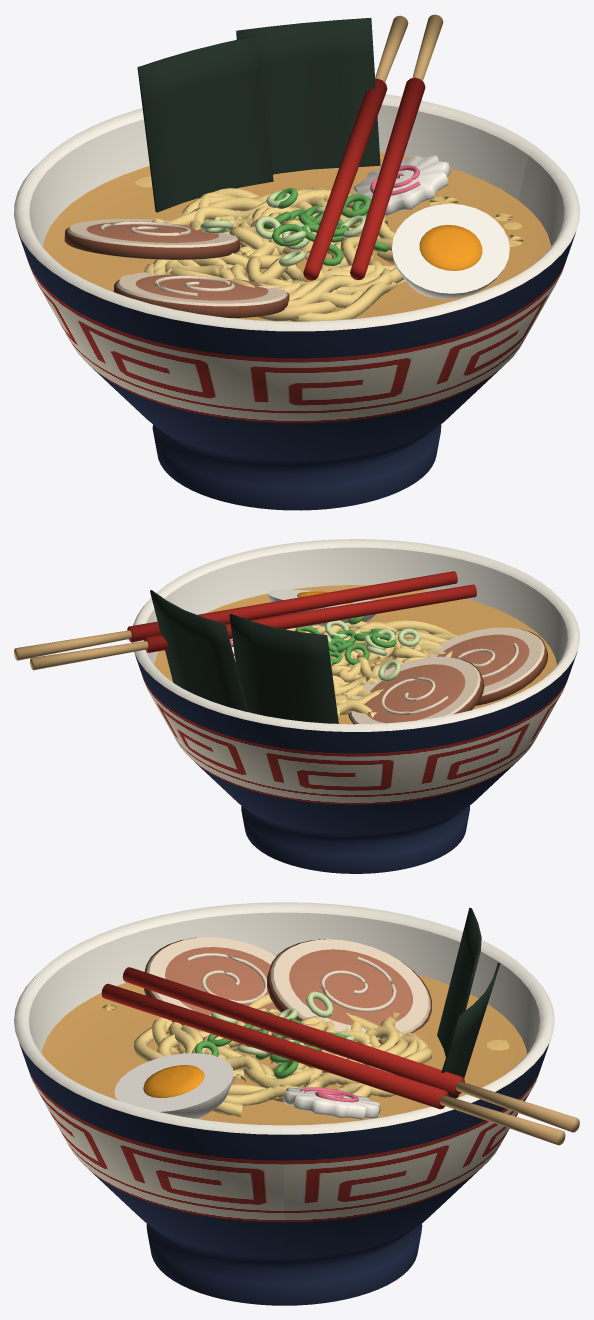
Rendered from keep_ramen.glb.
3 views of the same model, one above another, from view 1: azimuth 30°, elevation 25°; view 2: azimuth 150°, elevation 25°; view 3: azimuth 270°, elevation 25° (orthographic). The views are drawn at different scales.
Visible parts, largest first — view 1: rm_bowl, rm_bowl_in, rm_nori_a, rm_nori_b, rm_broth, rm_noodles, rm_egg_white, rm_chop_0_body, rm_chop_1_body, rm_scallion, rm_naruto_white, rm_egg_yolk (+12 smaller); view 2: rm_bowl, rm_bowl_in, rm_nori_a, rm_nori_b, rm_broth, rm_noodles, rm_chop_1_body, rm_chashu_a_meat, rm_chop_0_body, rm_chashu_b_meat, rm_chashu_a_fat, rm_chashu_b_fat (+8 smaller); view 3: rm_bowl, rm_bowl_in, rm_broth, rm_noodles, rm_chop_1_body, rm_chop_0_body, rm_chashu_a_meat, rm_egg_white, rm_chashu_a_fat, rm_chashu_b_meat, rm_nori_a, rm_nori_b (+10 smaller).
Part boxes in pixels (box(x1,y1,x2,y2)): rm_bowl: box(16, 228, 575, 510); rm_bowl_in: box(14, 94, 579, 331); rm_nori_a: box(137, 36, 273, 212); rm_nori_b: box(236, 18, 380, 174); rm_broth: box(43, 152, 551, 321); rm_noodles: box(144, 187, 406, 321); rm_egg_white: box(392, 203, 509, 298); rm_chop_0_body: box(303, 78, 387, 280); rm_chop_1_body: box(350, 77, 425, 279); rm_scallion: box(263, 188, 388, 265); rm_naruto_white: box(353, 155, 451, 215); rm_egg_yolk: box(419, 225, 482, 270); rm_bowl: box(135, 652, 577, 873); rm_bowl_in: box(131, 539, 579, 731); rm_nori_a: box(229, 614, 338, 723); rm_nori_b: box(150, 590, 247, 711); rm_broth: box(154, 585, 556, 724); rm_noodles: box(286, 620, 458, 718); rm_chop_1_body: box(127, 571, 457, 642); rm_chashu_a_meat: box(364, 664, 465, 723); rm_chop_0_body: box(144, 584, 476, 652); rm_chashu_b_meat: box(437, 634, 529, 686); rm_chashu_a_fat: box(349, 656, 480, 724); rm_chashu_b_fat: box(429, 627, 544, 695); rm_bowl: box(19, 1043, 549, 1305); rm_bowl_in: box(14, 902, 554, 1134); rm_broth: box(42, 974, 526, 1125); rm_noodles: box(134, 994, 431, 1117); rm_chop_1_body: box(101, 983, 448, 1109); rm_chop_0_body: box(122, 967, 464, 1095); rm_chashu_a_meat: box(289, 949, 412, 1025); rm_egg_white: box(114, 1053, 233, 1118); rm_chashu_a_fat: box(271, 939, 430, 1039); rm_chashu_b_meat: box(165, 947, 277, 1015); rm_nori_a: box(437, 907, 481, 1056); rm_nori_b: box(441, 962, 500, 1098).
Size of the model in its own units: 0.2776 by 0.1629 by 0.2669.
Materials: 16 (1 with a texture image).
